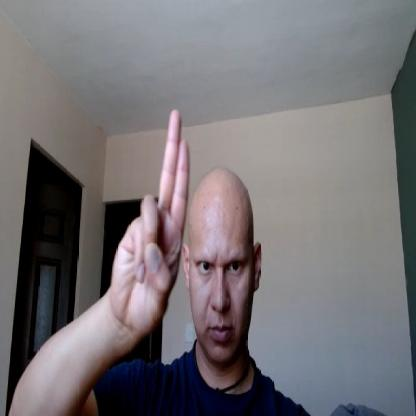U: (112, 109, 191, 330)
